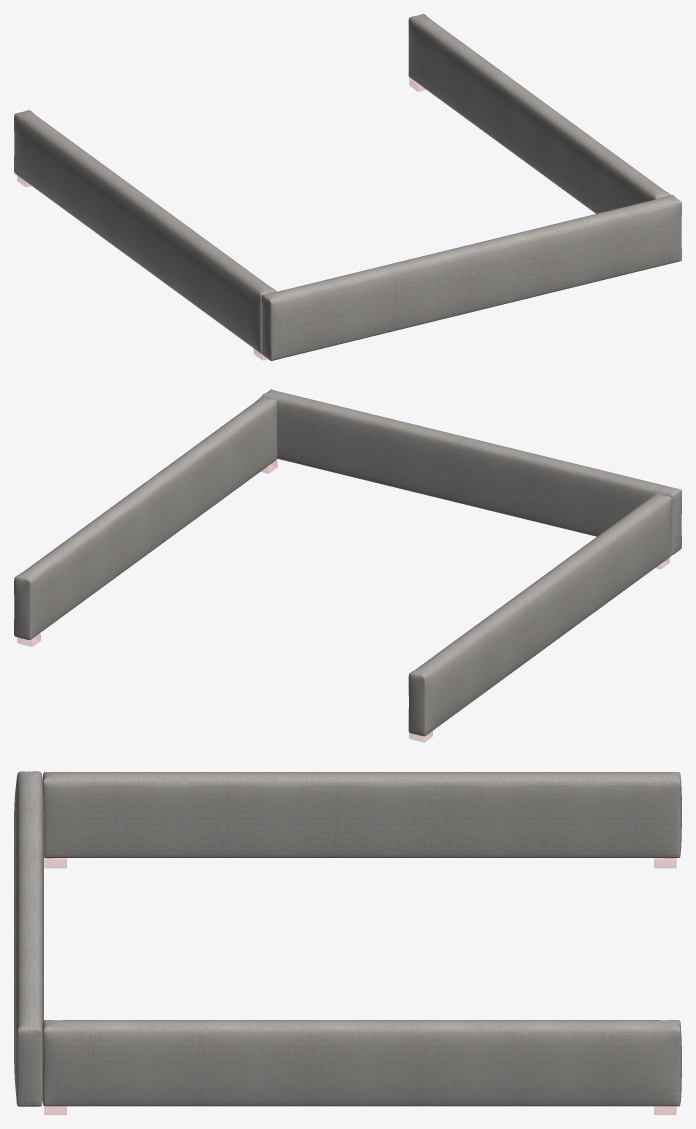
3 renders of one model, top to bottom at view 1: azimuth 30°, elevation 25°; view 2: azimuth 150°, elevation 25°; view 3: azimuth 270°, elevation 25°, orthographic. The views are drawn at different scales.
Parts seen in each view (by area): view 1: Base; view 2: Base; view 3: Base, legs.001.
Part boxes in pixels (x1=…): Base: x1=14, y1=14, x2=681, y2=360; Base: x1=14, y1=389, x2=681, y2=736; Base: x1=14, y1=771, x2=681, y2=1106; legs.001: x1=44, y1=858, x2=676, y2=1114.
Bounding box in the file's own units: 1.85 × 0.2939 × 2.
2 materials, 1 textured.
